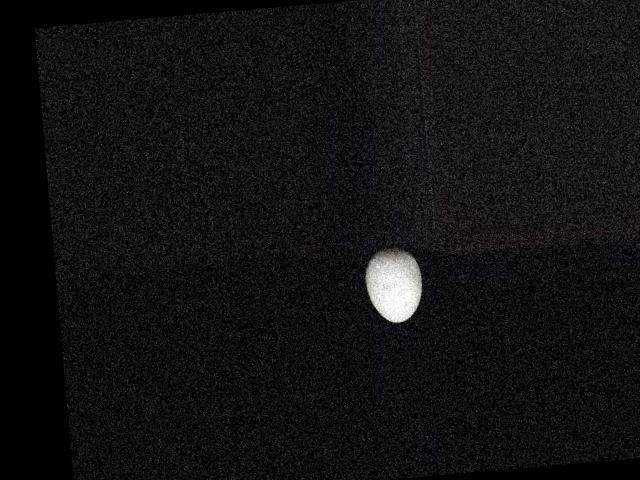egg: (364, 244, 424, 324)
